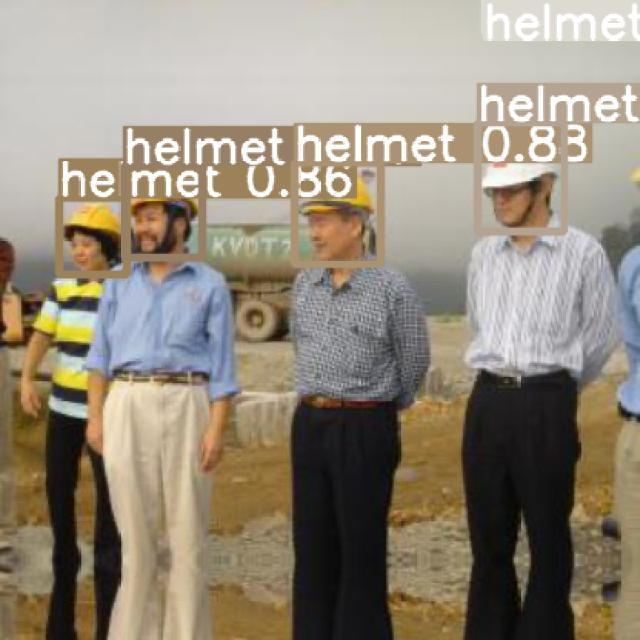white helmet: (477, 163, 561, 193)
yellow helmet: (303, 180, 377, 218), (64, 202, 126, 242)
